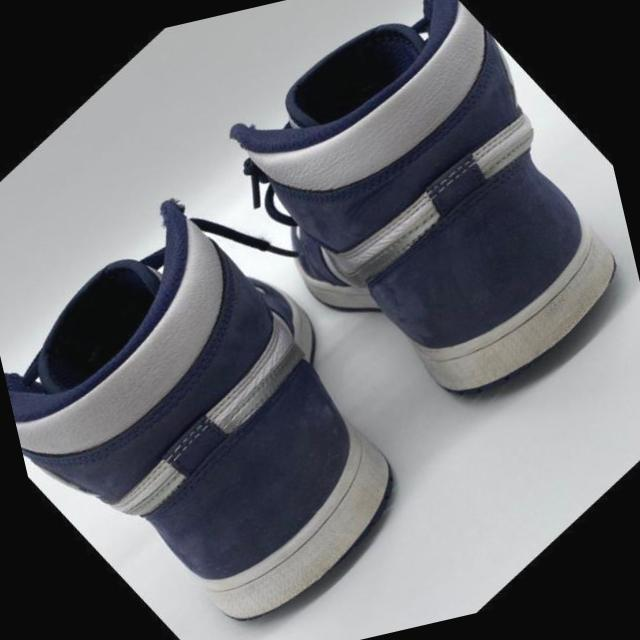nike_original_jordan: (151, 0, 640, 495), (0, 141, 481, 640)
